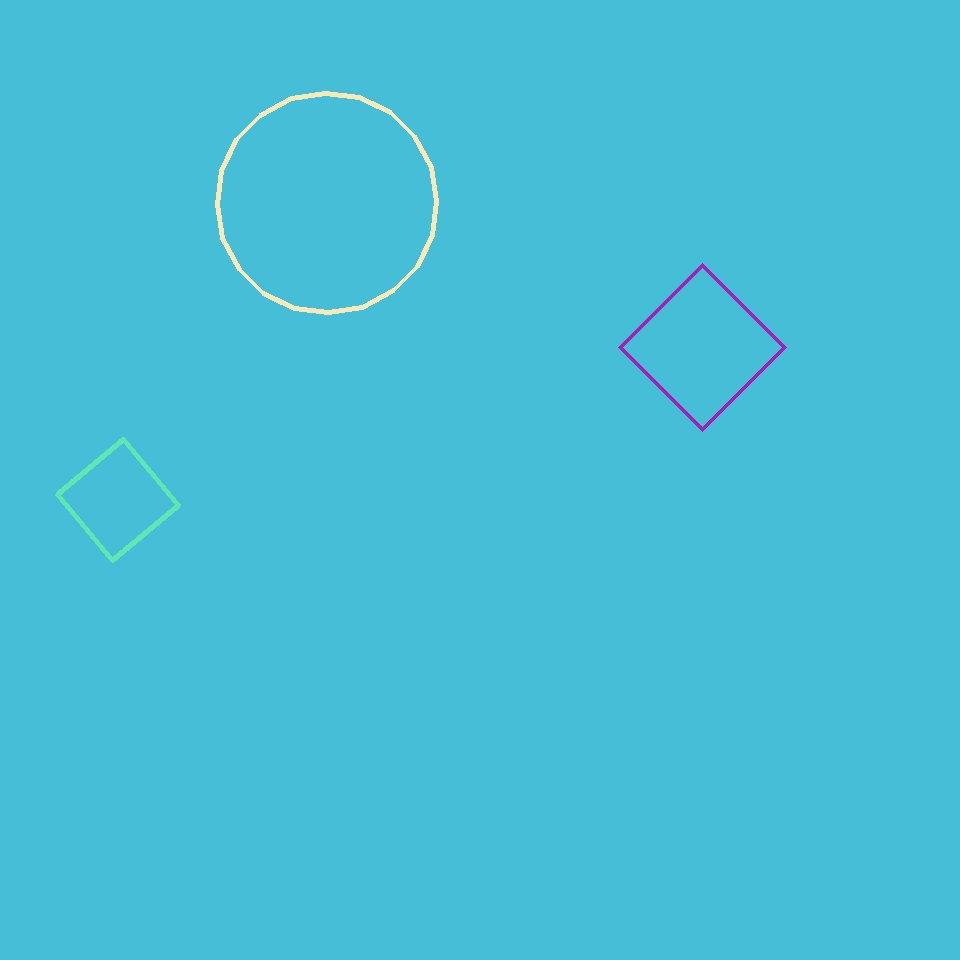square: (620, 265, 784, 429), (57, 440, 178, 560)
triangle: (218, 94, 436, 312)
